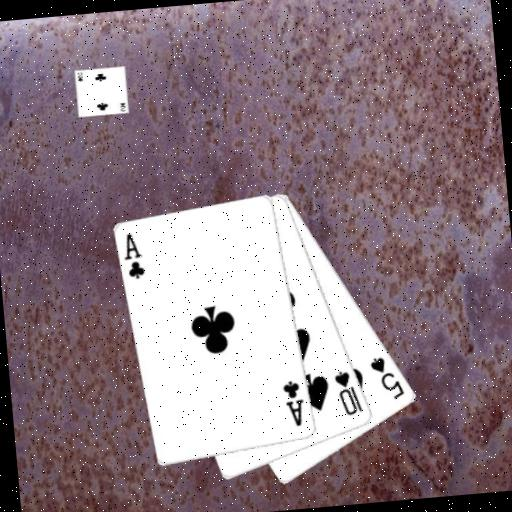10S: (331, 366, 365, 418)
5S: (367, 352, 408, 403)
AC: (280, 378, 308, 430), (120, 230, 148, 282)
